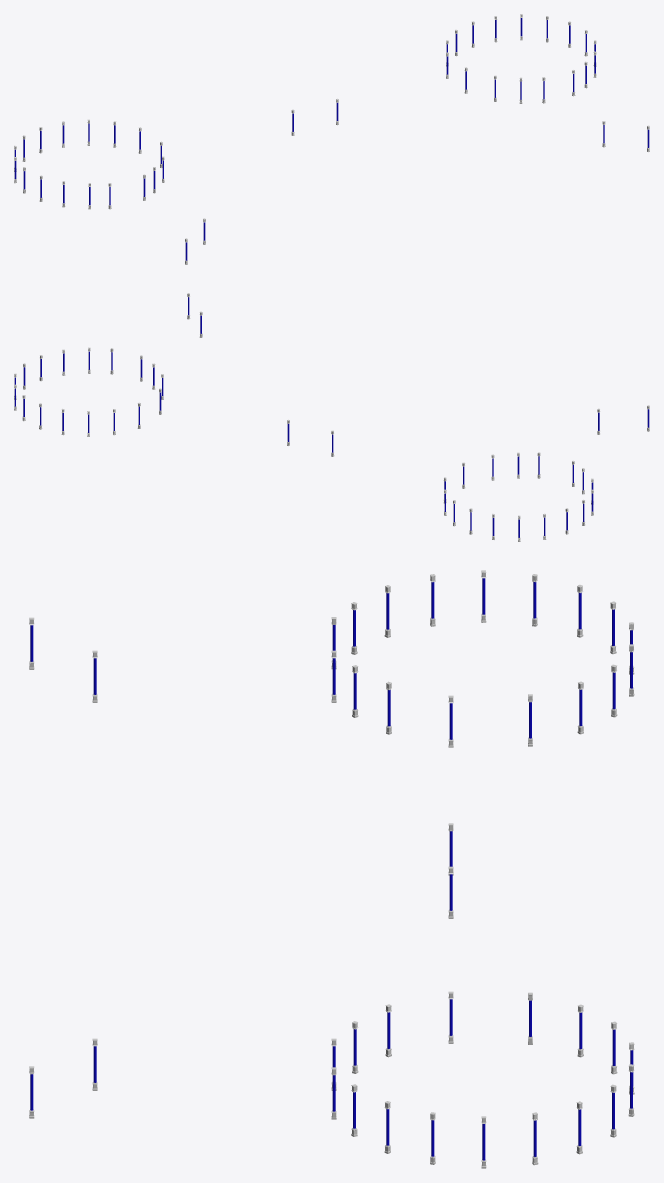
The model's file is Puzzle Alanları Columns.fbx.
3 views of the same model, one above another, from view 1: azimuth 30°, elevation 25°; view 2: azimuth 150°, elevation 25°; view 3: azimuth 270°, elevation 25° (orthographic). The views are drawn at different scales.
Size of the model in its own units: 44346 by 1905 by 20702.
